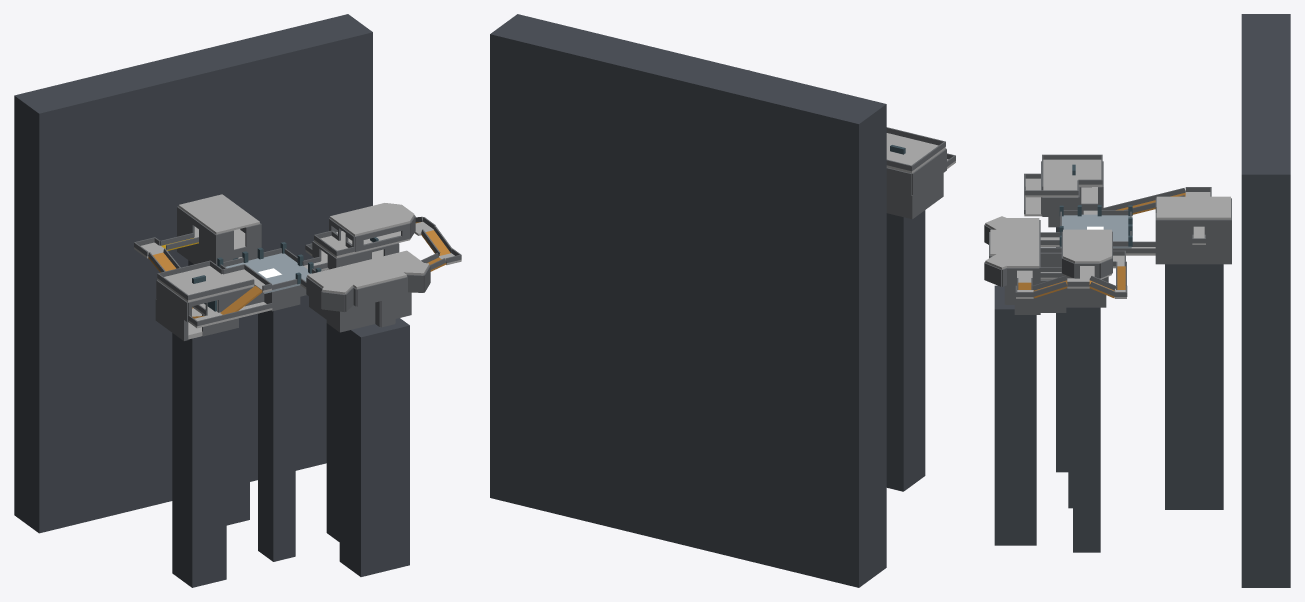
File: lockout_greybox.glb
3 views of the same model, side by side, from view 1: azimuth 30°, elevation 25°; view 2: azimuth 150°, elevation 25°; view 3: azimuth 270°, elevation 25° (orthographic). The views are drawn at different scales.
Parts seen in each view (by area): view 1: Lockout_Oob-col, Lockout_Wall-col, Lockout_Floor-col, Lockout_Deck-col, Lockout_Ramp-col, Lockout_Cover-col; view 2: Lockout_Oob-col, Lockout_Wall-col, Lockout_Floor-col; view 3: Lockout_Oob-col, Lockout_Wall-col, Lockout_Floor-col, Lockout_Deck-col, Lockout_Ramp-col, Lockout_Cover-col.
Boxes of the visible parts, left/top/right/bottom form: Lockout_Oob-col: left=14, top=14, right=409, bottom=587; Lockout_Wall-col: left=134, top=206, right=461, bottom=340; Lockout_Floor-col: left=134, top=194, right=461, bottom=339; Lockout_Deck-col: left=225, top=253, right=311, bottom=293; Lockout_Ramp-col: left=148, top=222, right=450, bottom=318; Lockout_Cover-col: left=192, top=237, right=378, bottom=311; Lockout_Oob-col: left=490, top=14, right=925, bottom=587; Lockout_Wall-col: left=886, top=127, right=955, bottom=219; Lockout_Floor-col: left=748, top=70, right=955, bottom=173; Lockout_Oob-col: left=994, top=14, right=1290, bottom=587; Lockout_Wall-col: left=984, top=154, right=1231, bottom=314; Lockout_Floor-col: left=985, top=159, right=1230, bottom=298; Lockout_Deck-col: left=1060, top=214, right=1131, bottom=248; Lockout_Ramp-col: left=1018, top=192, right=1185, bottom=298; Lockout_Cover-col: left=1059, top=164, right=1132, bottom=246.
Size of what is drawn, in the model's own units: 81.6 by 98 by 65.84.
